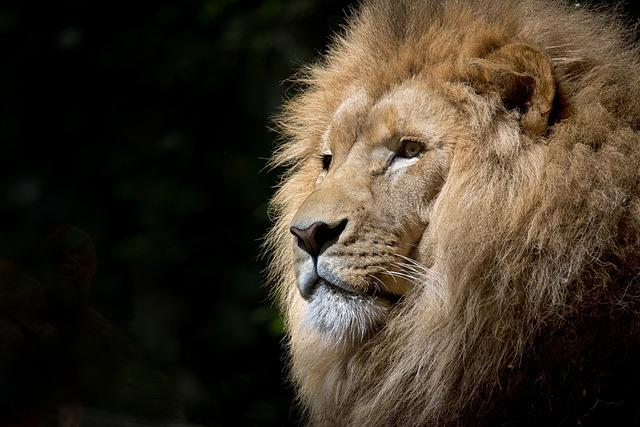Non_Gorille: (238, 0, 640, 427)
